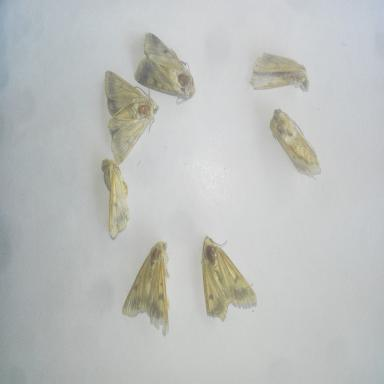abw: (102, 68, 162, 165), (198, 233, 260, 325), (120, 237, 175, 337), (132, 30, 198, 107), (268, 106, 324, 183), (96, 156, 134, 240), (248, 50, 311, 96)
